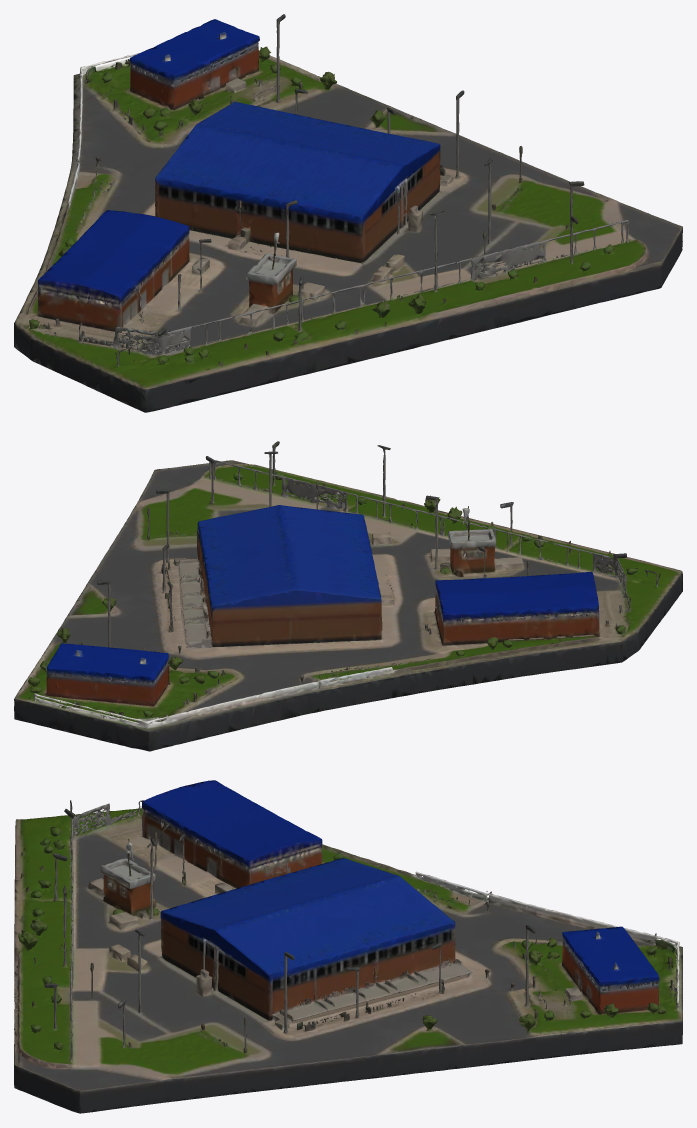
Rendered from faragello-cake-factory-1.glb.
3 renders of one model, top to bottom at view 1: azimuth 30°, elevation 25°; view 2: azimuth 150°, elevation 25°; view 3: azimuth 270°, elevation 25°, orthographic. The views are drawn at different scales.
Size of the model in its own units: 0.9972 by 0.1705 by 0.9789.
Materials: 1 (1 with a texture image).
